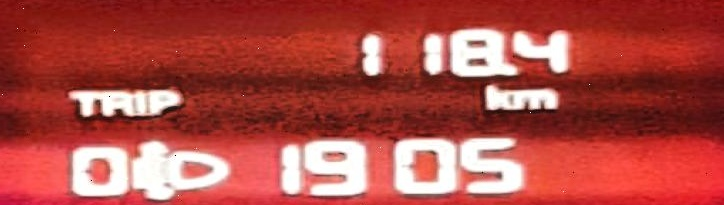-: (496, 62, 518, 75)
0: (390, 137, 457, 195), (64, 145, 129, 198)
1: (276, 142, 301, 195), (418, 31, 444, 76), (359, 32, 383, 77)
4: (510, 30, 571, 73)
5: (459, 135, 525, 194)
8: (445, 27, 504, 78)
9: (300, 138, 369, 197)
X: (510, 87, 561, 111), (145, 87, 181, 116), (67, 88, 99, 118), (99, 89, 131, 116), (482, 83, 509, 111), (130, 88, 145, 116)
